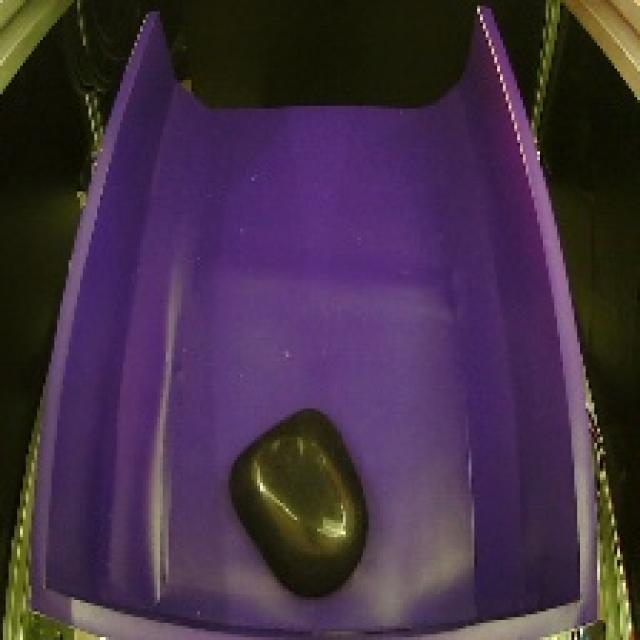cobbles: (217, 398, 376, 604)
